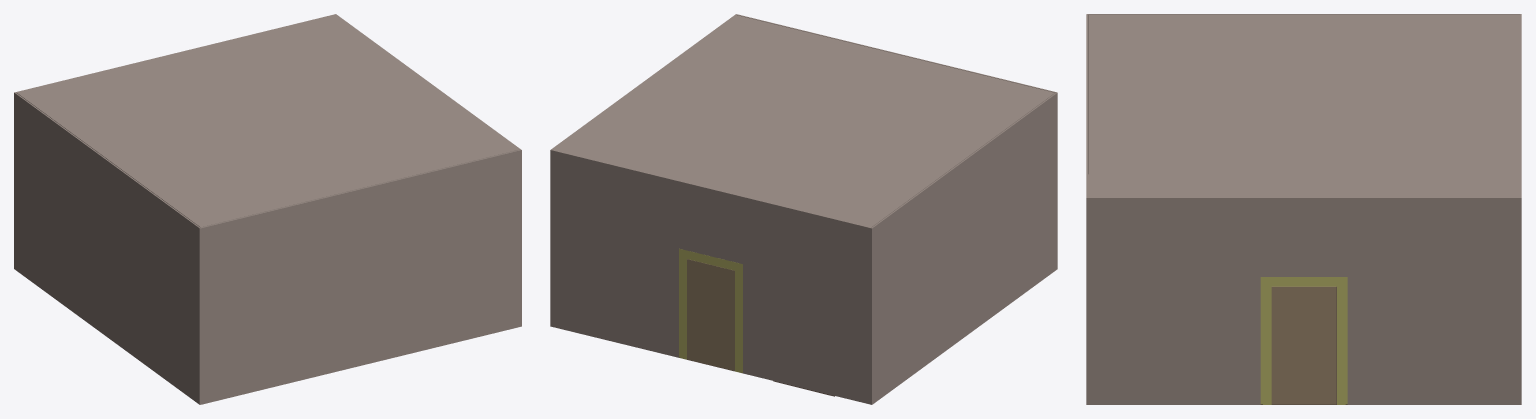
File: Room17_DiningRoom.fbx
3 views of the same model, side by side, from view 1: azimuth 30°, elevation 25°; view 2: azimuth 150°, elevation 25°; view 3: azimuth 270°, elevation 25° (orthographic). The views are drawn at different scales.
Parts seen in each view (by area): view 1: Roof, WallPosZ, WallPosX; view 2: Roof, WallSlicedNegZ, WallPosX, DoorNegZ, DoorFrameNegZ, WallPosZ, WallSlicedNegX; view 3: WallSlicedNegX, Roof, DoorNegX, DoorFrameNegX, WallSlicedNegZ, WallPosZ, WallPosX.
Boxes of the visible parts, left/top/right/bottom form: Roof: left=17, top=15, right=519, bottom=227; WallPosZ: left=200, top=150, right=521, bottom=404; WallPosX: left=14, top=92, right=200, bottom=404; Roof: left=552, top=15, right=1054, bottom=227; WallSlicedNegZ: left=550, top=150, right=871, bottom=404; WallPosX: left=870, top=92, right=1057, bottom=404; DoorNegZ: left=687, top=259, right=734, bottom=370; DoorFrameNegZ: left=679, top=248, right=742, bottom=372; WallPosZ: left=736, top=14, right=1056, bottom=92; WallSlicedNegX: left=550, top=14, right=736, bottom=326; WallSlicedNegX: left=1086, top=197, right=1521, bottom=404; Roof: left=1088, top=15, right=1519, bottom=197; DoorNegX: left=1271, top=286, right=1336, bottom=404; DoorFrameNegX: left=1260, top=277, right=1347, bottom=404; WallSlicedNegZ: left=1518, top=14, right=1521, bottom=404; WallPosZ: left=1086, top=14, right=1089, bottom=404; WallPosX: left=1086, top=14, right=1521, bottom=174.
Bounding box in the file's own units: 100 × 53.31 × 100.
